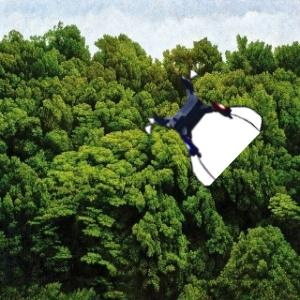drone: (150, 74, 251, 175)
